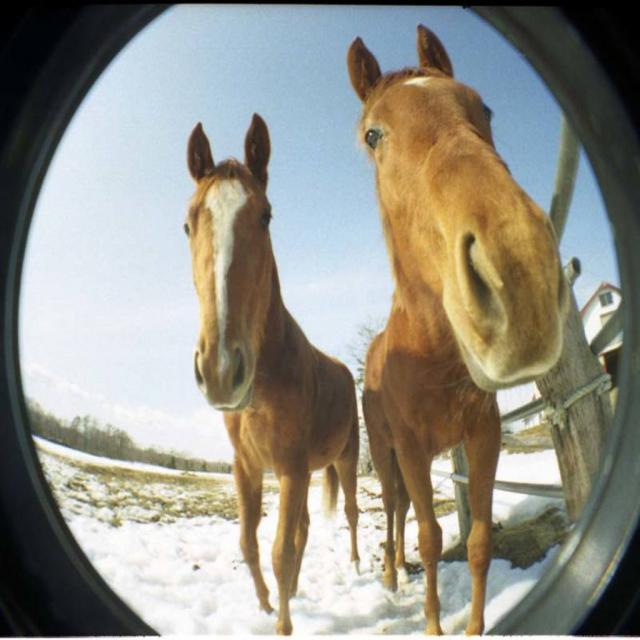Horse: (342, 26, 572, 639), (183, 110, 362, 634)
